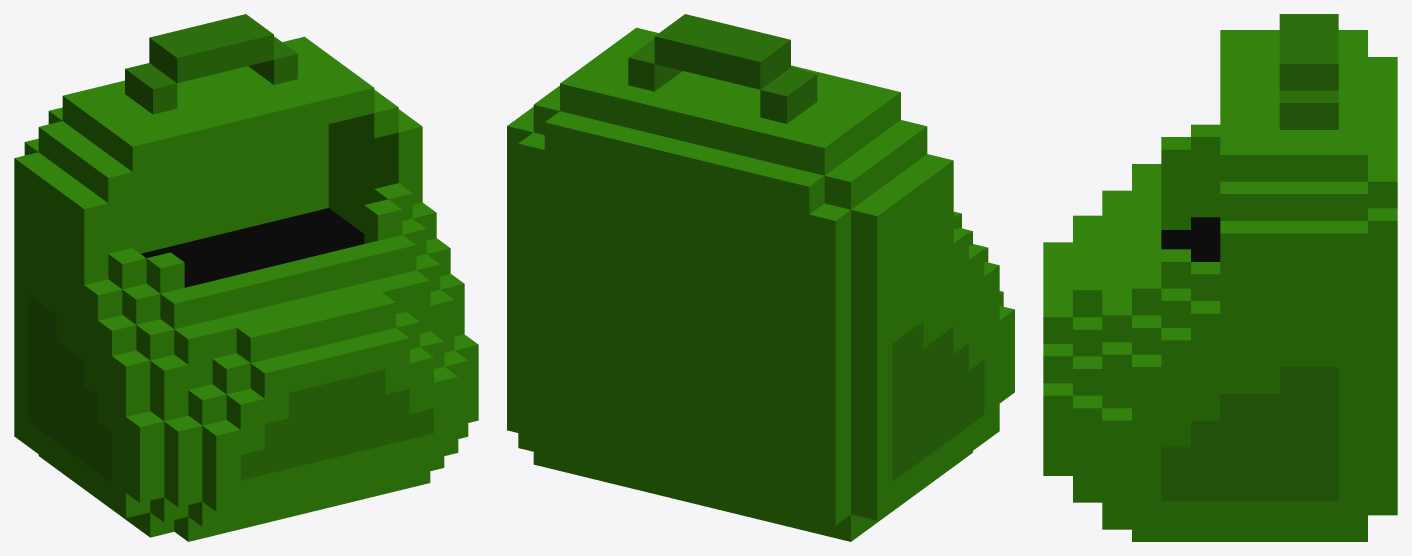
Rendered from Mochila.fbx.
The picture shows the model from 3 angles, left to right: view 1: azimuth 30°, elevation 25°; view 2: azimuth 150°, elevation 25°; view 3: azimuth 270°, elevation 25°; orthographic projection. The views are drawn at different scales.
Parts seen in each view (by area): view 1: mochila_14x16x12; view 2: mochila_14x16x12; view 3: mochila_14x16x12.
Part boxes in pixels (bbox=[...]): mochila_14x16x12: bbox=[14, 14, 478, 541]; mochila_14x16x12: bbox=[507, 14, 1014, 541]; mochila_14x16x12: bbox=[1043, 14, 1397, 541].
Size of the model in its own units: 933 by 1067 by 800.
